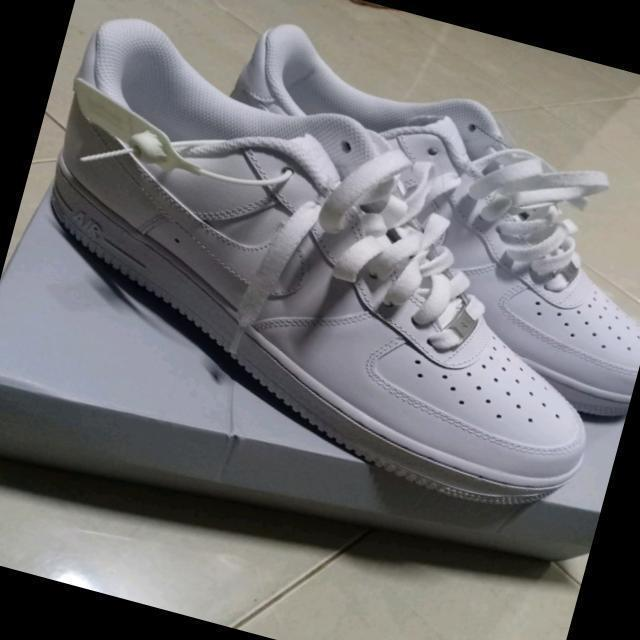nike original air force: (0, 0, 640, 528), (176, 11, 640, 426)
